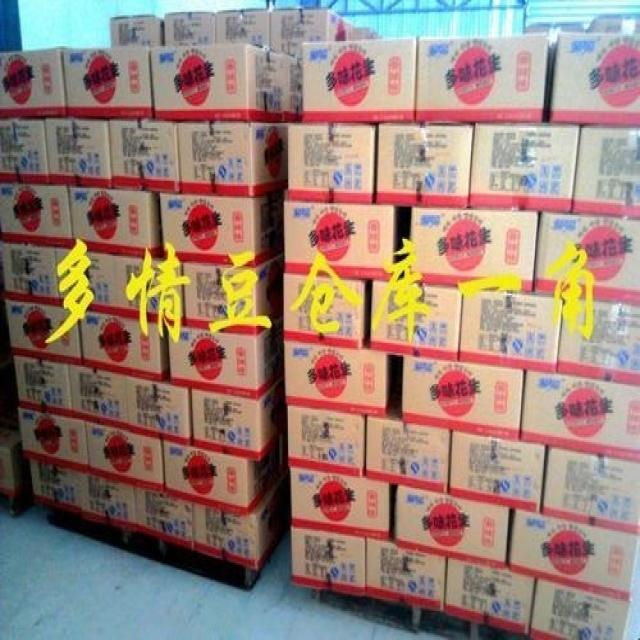box: (508, 508, 639, 600), (415, 36, 549, 124), (409, 206, 538, 293), (521, 371, 639, 460), (150, 44, 283, 122), (402, 356, 523, 440), (468, 123, 580, 213), (533, 212, 639, 305), (302, 37, 416, 123), (160, 191, 284, 268), (395, 485, 510, 568), (169, 317, 279, 400), (459, 288, 563, 374), (284, 202, 394, 282), (546, 34, 639, 126), (542, 445, 639, 533), (375, 124, 474, 208), (177, 122, 285, 197), (163, 441, 271, 516), (284, 340, 386, 418), (449, 431, 545, 513), (192, 483, 281, 570), (370, 281, 463, 363), (291, 467, 390, 541), (287, 123, 376, 205), (183, 255, 277, 332), (366, 410, 451, 494), (557, 299, 639, 386), (192, 381, 280, 461), (68, 186, 162, 260), (444, 559, 534, 635), (62, 46, 154, 119), (80, 311, 170, 382), (284, 274, 365, 350), (530, 578, 632, 638), (572, 126, 639, 217), (367, 538, 446, 612), (288, 404, 365, 479), (85, 421, 164, 494), (109, 121, 179, 194), (292, 528, 366, 596), (6, 300, 82, 366), (113, 256, 184, 325), (0, 47, 68, 118), (0, 184, 73, 250), (45, 118, 112, 189), (125, 375, 192, 446), (18, 409, 89, 475), (271, 10, 355, 62), (0, 241, 60, 307), (56, 248, 115, 315), (69, 365, 129, 430), (134, 487, 194, 551), (14, 356, 72, 419), (79, 472, 136, 533), (30, 458, 81, 514), (215, 11, 271, 51), (110, 15, 165, 47), (164, 13, 215, 45), (283, 53, 302, 122)
